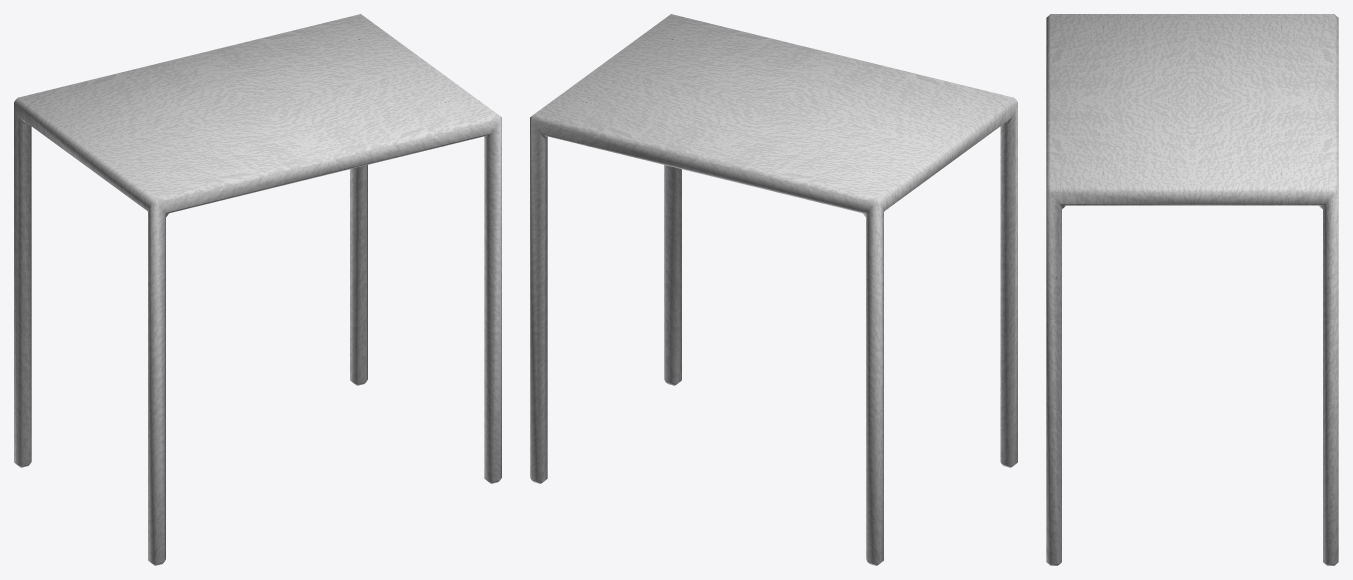
Rendered from tableTest01.obj.
3 views of the same model, side by side, from view 1: azimuth 30°, elevation 25°; view 2: azimuth 150°, elevation 25°; view 3: azimuth 270°, elevation 25° (orthographic). The views are drawn at different scales.
Parts seen in each view (by area): view 1: TableBevel_Cube.016; view 2: TableBevel_Cube.016; view 3: TableBevel_Cube.016.
Part boxes in pixels (x1=…): TableBevel_Cube.016: x1=14, y1=14, x2=501, y2=565; TableBevel_Cube.016: x1=530, y1=14, x2=1017, y2=565; TableBevel_Cube.016: x1=1046, y1=14, x2=1338, y2=565.
Bounding box in the file's own units: 1 × 1 × 0.7.
